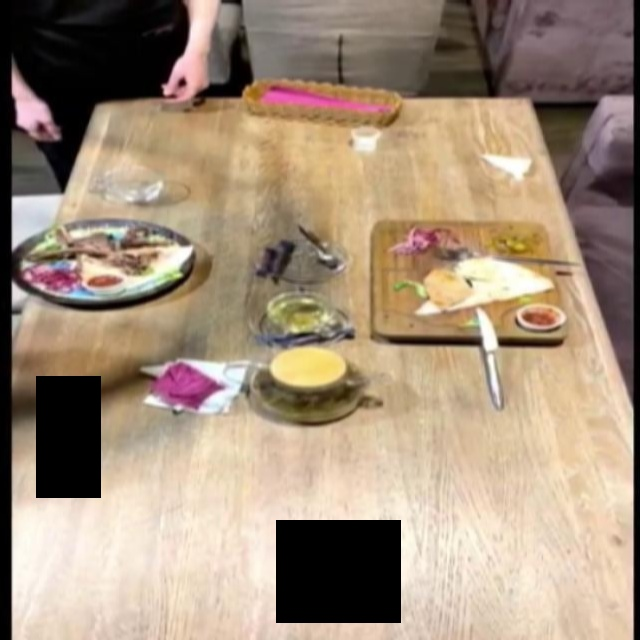meat: (368, 218, 568, 342), (0, 215, 200, 327)
tea: (210, 334, 383, 434)
